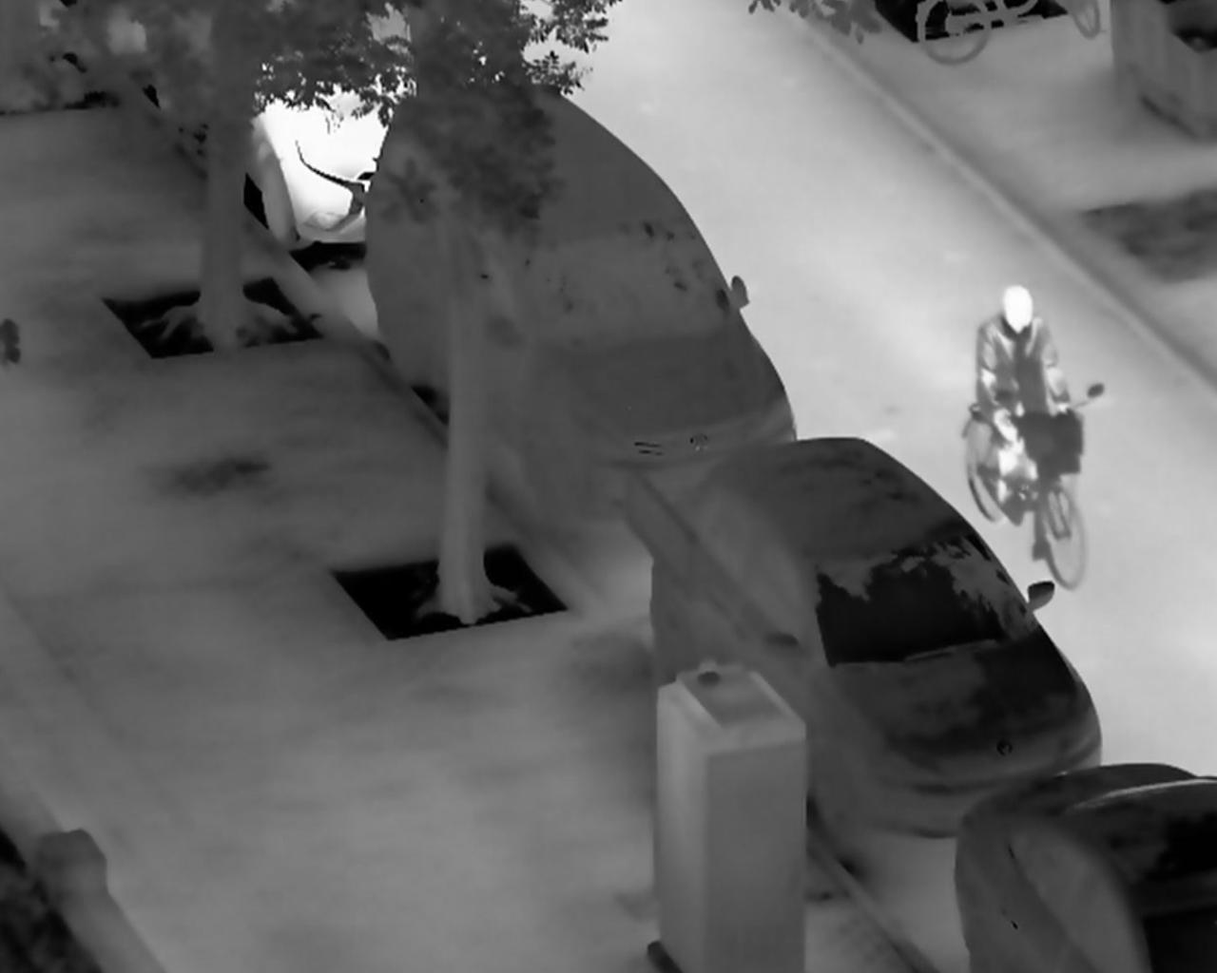person: (972, 280, 1081, 526)
